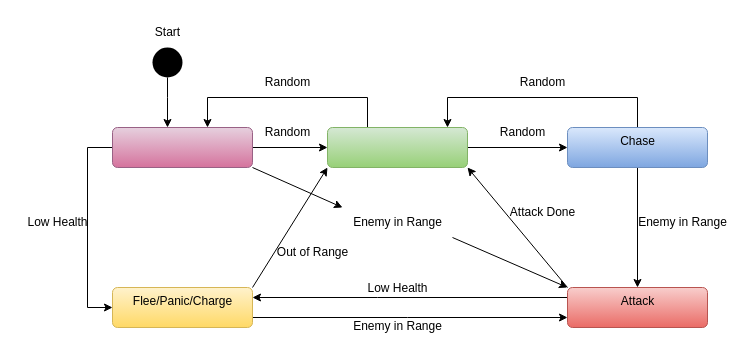
This 754x358 diagram has some shape labels left out. The centre of each missing label's shape, as x and y in pixels:
"Idle" goes at point (182, 147).
"Wander" goes at point (397, 147).
